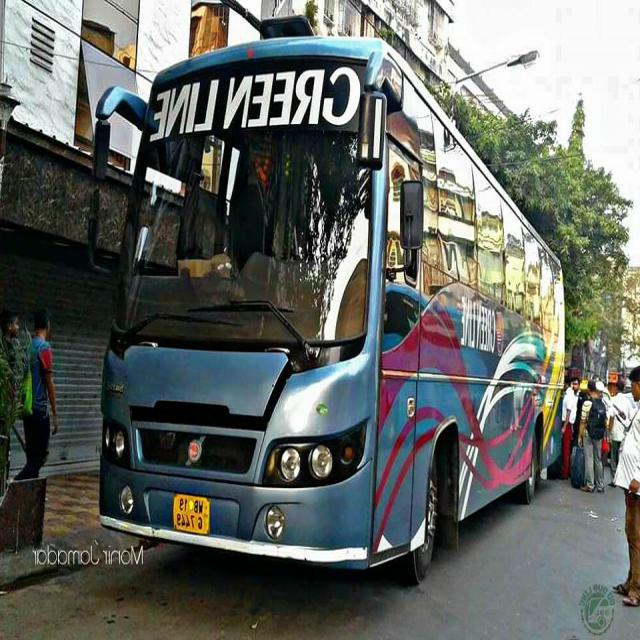Bus: (93, 33, 567, 593)
